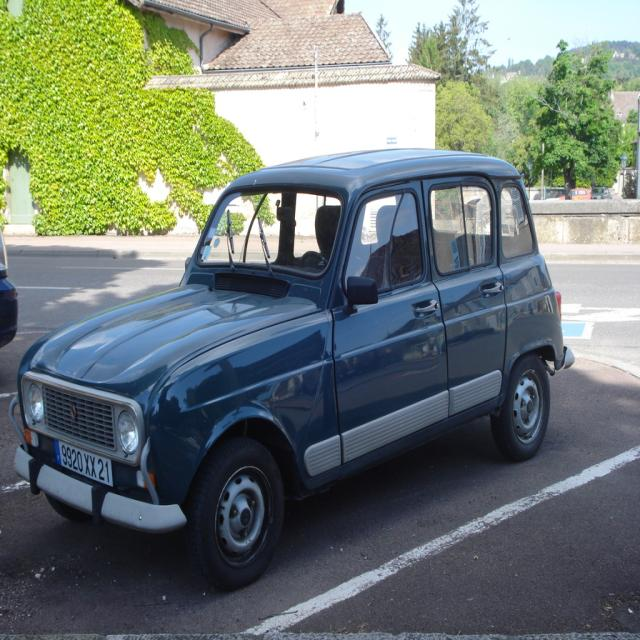car: (6, 146, 574, 591)
